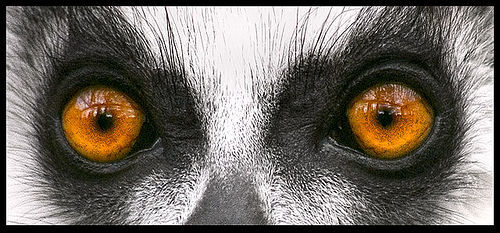cat: (0, 2, 499, 230)
